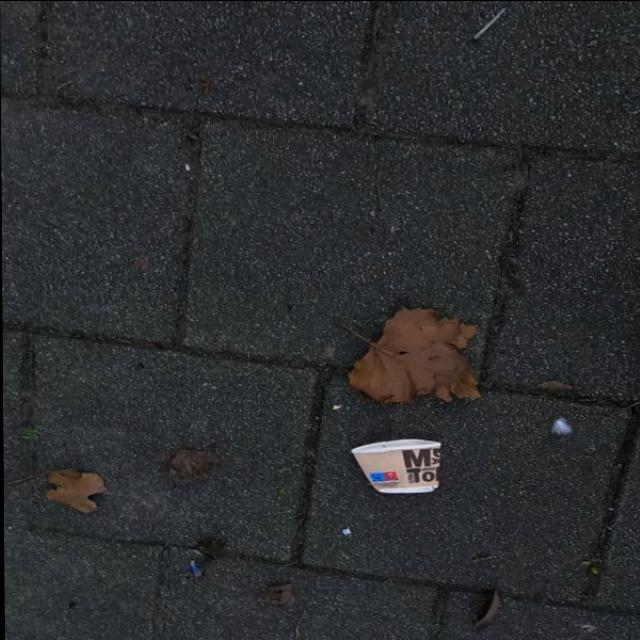Cup: (348, 436, 442, 494)
